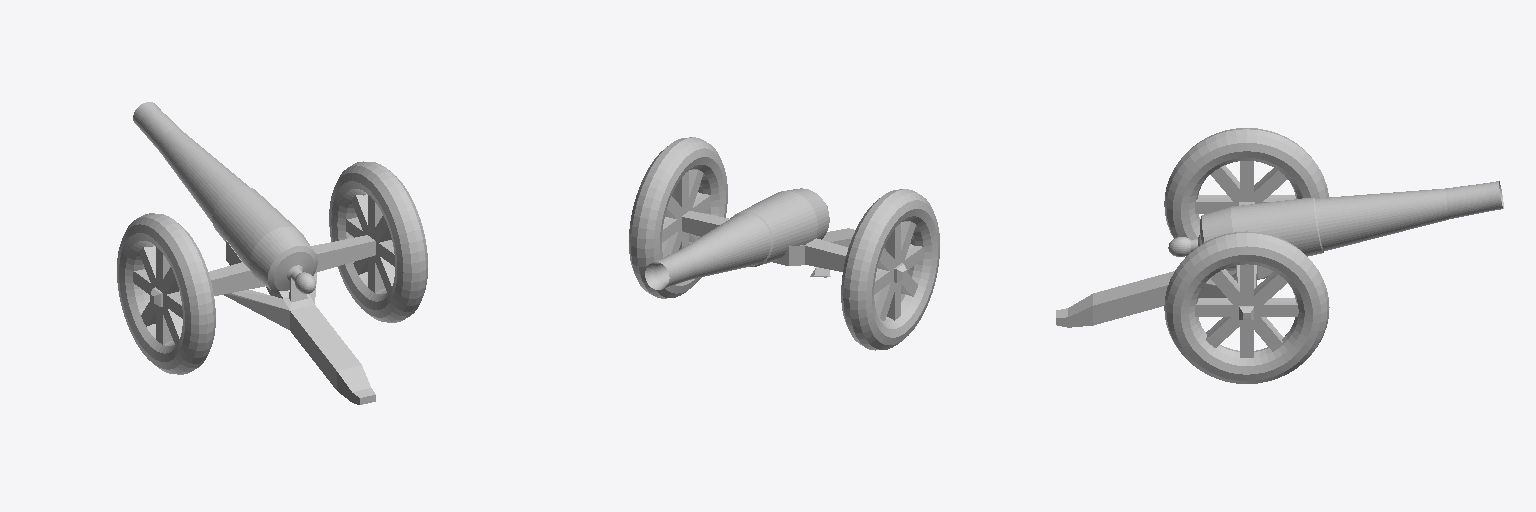
File: canon.obj
3 views of the same model, side by side, from view 1: azimuth 30°, elevation 25°; view 2: azimuth 150°, elevation 25°; view 3: azimuth 270°, elevation 25° (orthographic).
Visible parts, largest first — view 1: Wheels_Torus, Barrel_Torus.001, Cube_Cube.002; view 2: Wheels_Torus, Barrel_Torus.001, Cube_Cube.002; view 3: Wheels_Torus, Barrel_Torus.001, Cube_Cube.002.
Part boxes in pixels (x1,y1,x2,y2): Wheels_Torus: (117,161,427,374); Barrel_Torus.001: (133,102,317,293); Cube_Cube.002: (150,235,375,404); Wheels_Torus: (629,137,939,350); Barrel_Torus.001: (645,188,829,289); Cube_Cube.002: (682,211,906,282); Wheels_Torus: (1164,128,1329,383); Barrel_Torus.001: (1168,181,1503,270); Cube_Cube.002: (1056,202,1273,327).
Bounding box in the file's own units: 25.37 × 15.07 × 40.84.